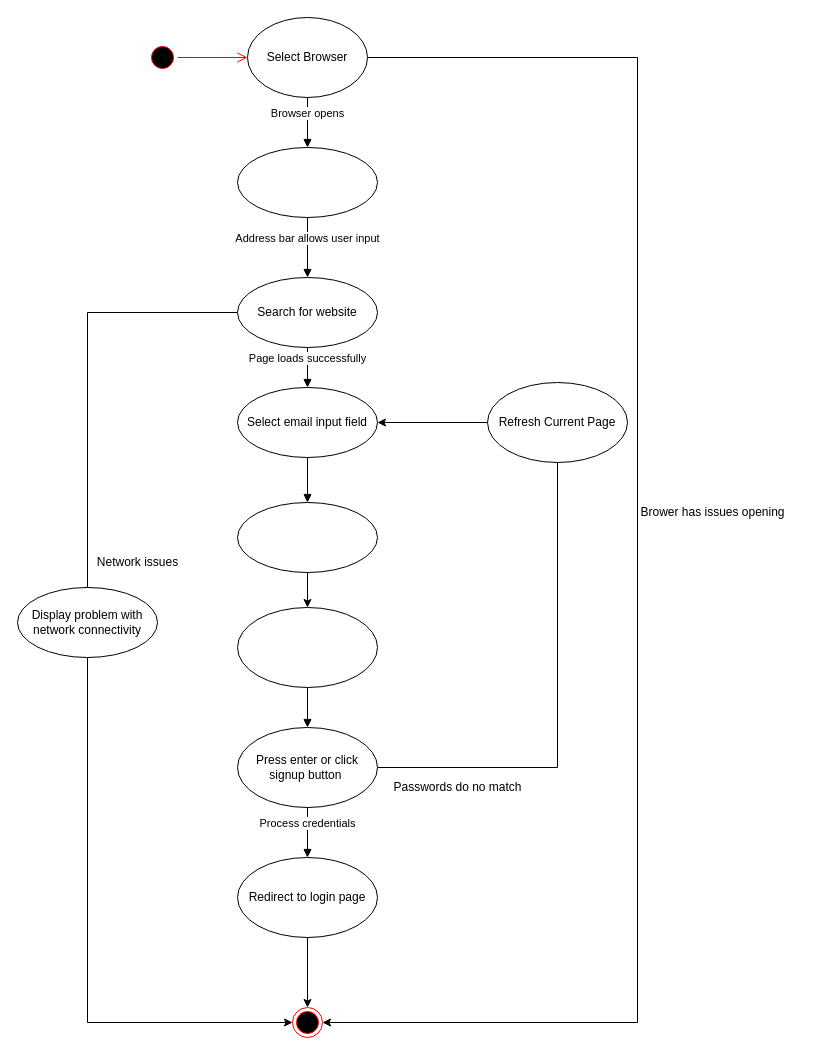
Some shapes in this 815 by 1055 pixel diagram are drawn without their labels. The centre of each missing label's shape, as x and y in pixels:
"Click address bar" belongs at point 307,182.
"Select confirm password input field" belongs at point 307,647.
"Select password input field" belongs at point 307,537.
